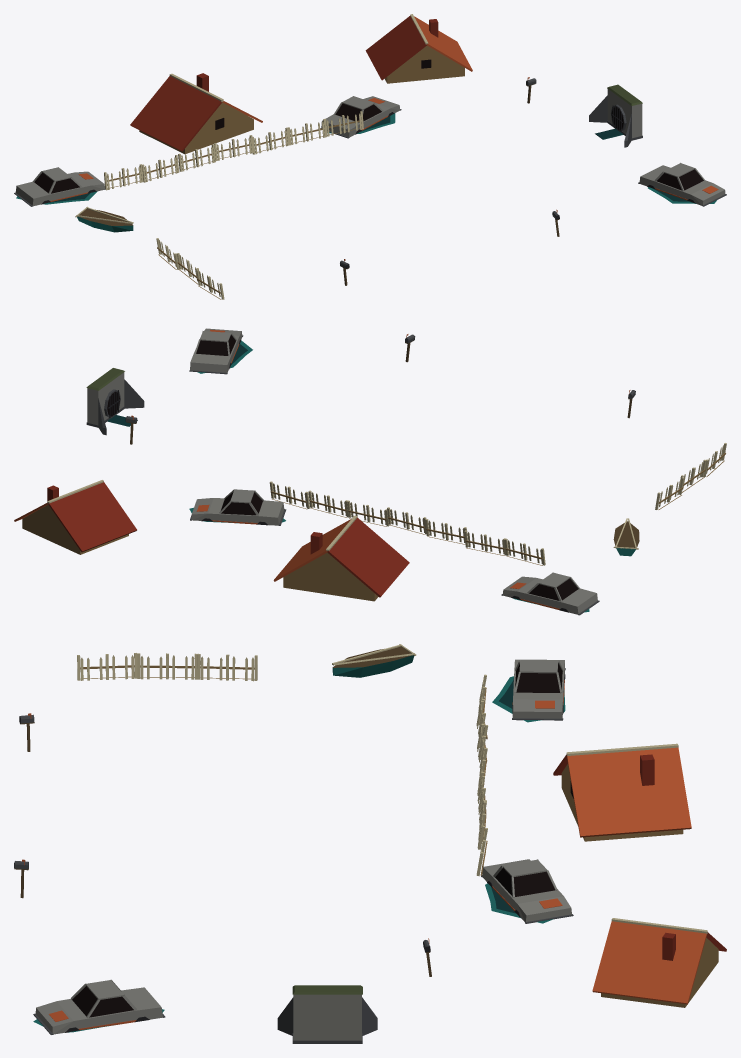
Rendered from drowned_culdesac.glb.
The picture shows the model from 3 angles, top to bottom: view 1: azimuth 30°, elevation 25°; view 2: azimuth 150°, elevation 25°; view 3: azimuth 270°, elevation 25°; orthographic projection. The views are drawn at different scales.
Parts seen in each view (by area): view 1: drowned_culdesac; view 2: drowned_culdesac; view 3: drowned_culdesac.
Boxes of the visible parts, left/top/right/bottom form: drowned_culdesac: left=14, top=14, right=726, bottom=299; drowned_culdesac: left=14, top=328, right=726, bottom=615; drowned_culdesac: left=14, top=644, right=726, bottom=1043.
Bounding box in the file's own units: 30.72 × 2.66 × 24.91.
